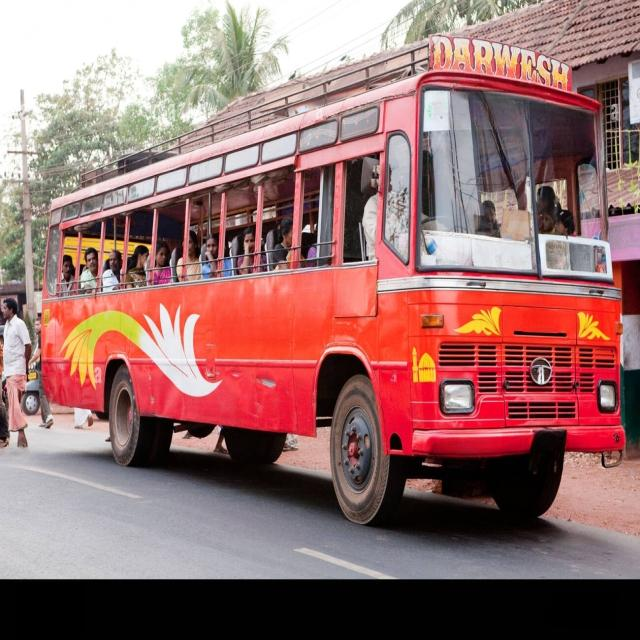bus: (41, 36, 625, 523)
